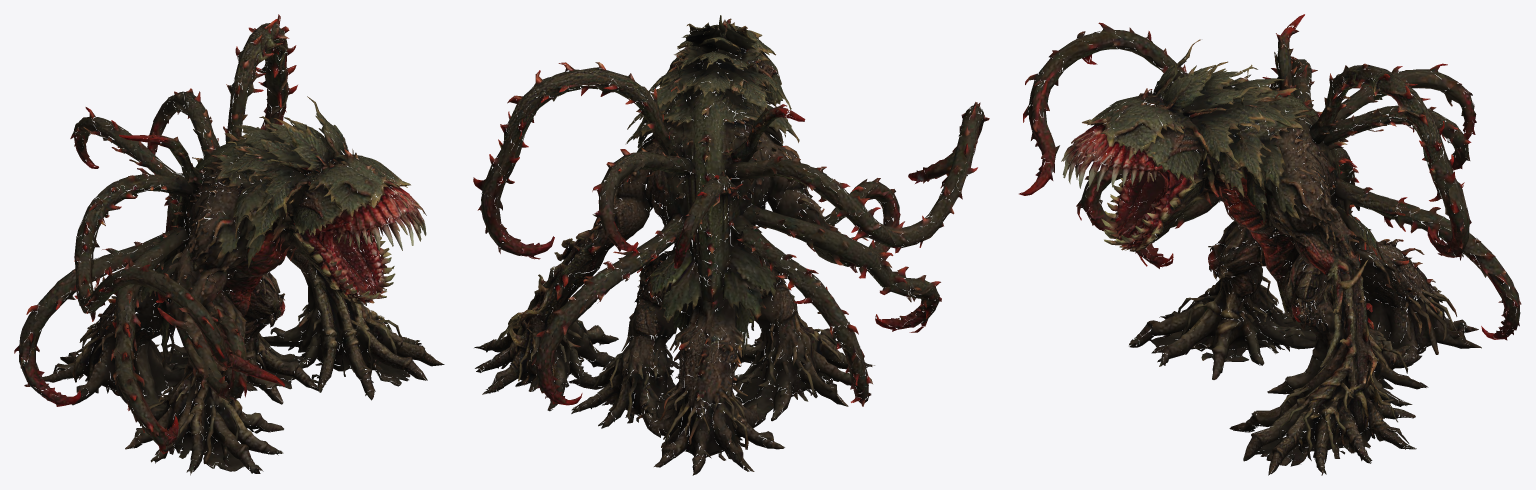
3 views of the same model, side by side, from view 1: azimuth 30°, elevation 25°; view 2: azimuth 150°, elevation 25°; view 3: azimuth 270°, elevation 25° (orthographic). The views are drawn at different scales.
Parts seen in each view (by area): view 1: tripo_node_28f30ebd-2523-4419-bd5e-f7af8e9b9d74; view 2: tripo_node_28f30ebd-2523-4419-bd5e-f7af8e9b9d74; view 3: tripo_node_28f30ebd-2523-4419-bd5e-f7af8e9b9d74.
Part boxes in pixels (x1,y1,x2,y2): tripo_node_28f30ebd-2523-4419-bd5e-f7af8e9b9d74: (14, 14, 444, 475); tripo_node_28f30ebd-2523-4419-bd5e-f7af8e9b9d74: (473, 15, 989, 475); tripo_node_28f30ebd-2523-4419-bd5e-f7af8e9b9d74: (1019, 14, 1521, 475).
Size of the model in its own units: 0.9554 by 0.7483 by 0.9846.
Materials: 1 (1 with a texture image).
